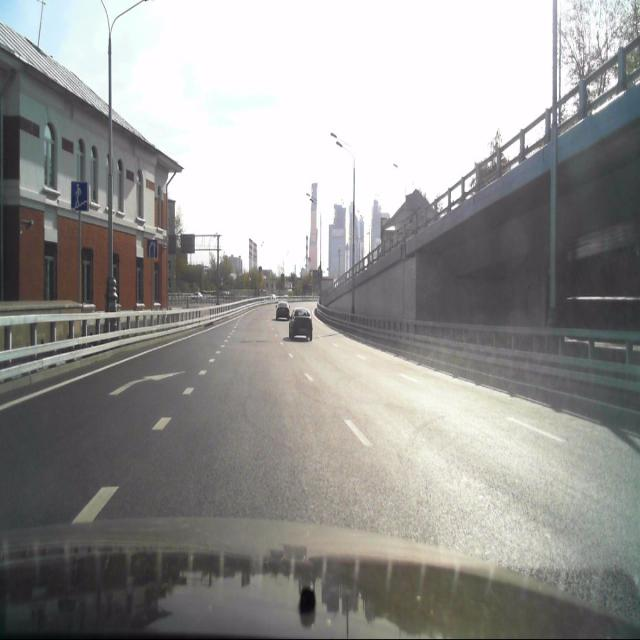road sign: (71, 180, 89, 214), (147, 239, 157, 258)
